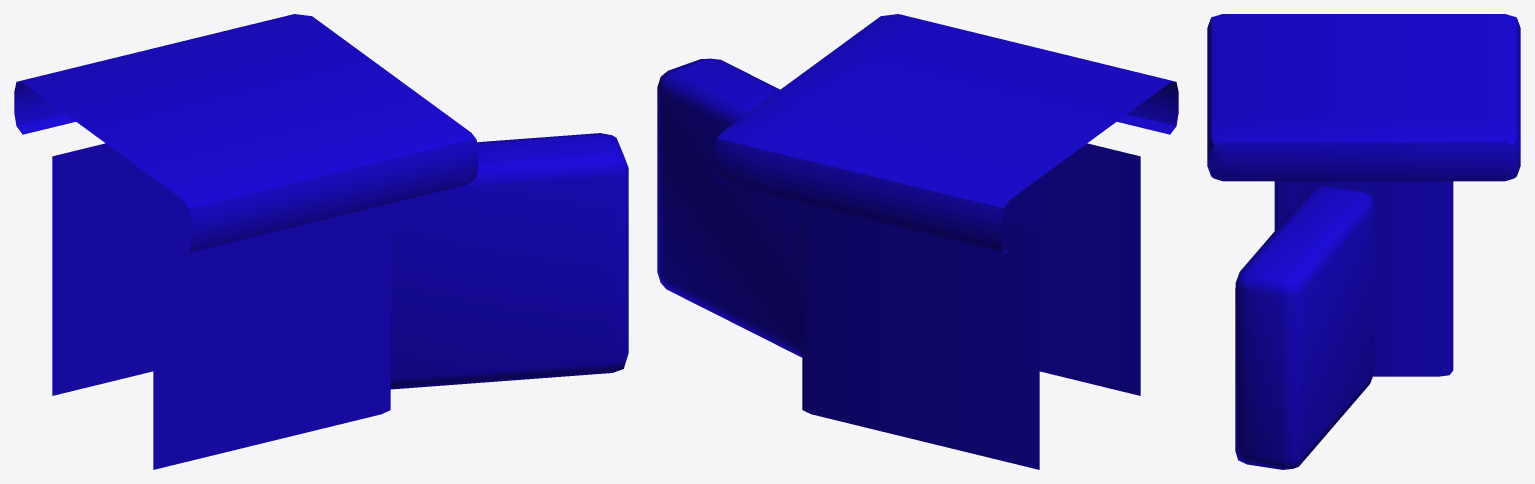
Rendered from SM_Bar_Door.fbx.
The picture shows the model from 3 angles, left to right: view 1: azimuth 30°, elevation 25°; view 2: azimuth 150°, elevation 25°; view 3: azimuth 270°, elevation 25°; orthographic projection. The views are drawn at different scales.
Parts seen in each view (by area): view 1: SM_Bar_Door; view 2: SM_Bar_Door; view 3: SM_Bar_Door.
Boxes of the visible parts, x1=… form: SM_Bar_Door: x1=14, y1=14, x2=628, y2=469; SM_Bar_Door: x1=657, y1=14, x2=1178, y2=469; SM_Bar_Door: x1=1207, y1=14, x2=1520, y2=469.
Bounding box in the file's own units: 169 × 100 × 110.
